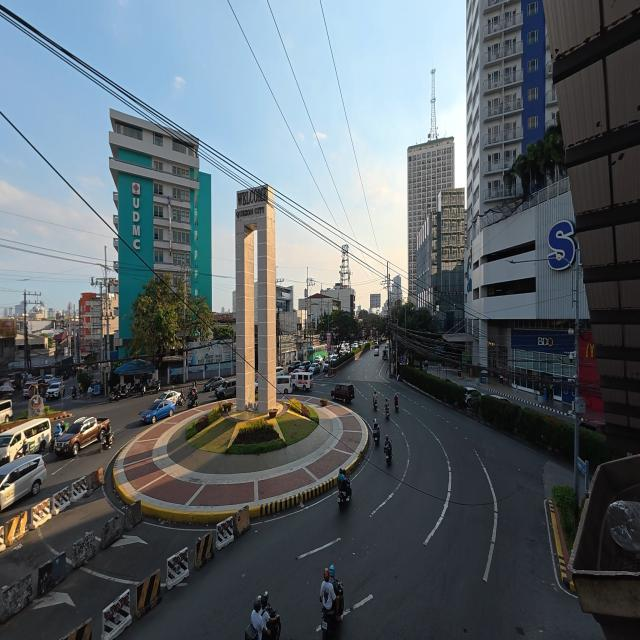car: (0, 455, 46, 510), (140, 400, 175, 423), (215, 378, 236, 400), (331, 384, 354, 402), (45, 381, 64, 400), (580, 420, 605, 434), (155, 390, 180, 403), (203, 376, 224, 391), (465, 387, 482, 405), (23, 381, 42, 397), (490, 394, 511, 403), (288, 361, 300, 372), (290, 368, 303, 377), (299, 361, 310, 371), (309, 363, 319, 374), (44, 375, 54, 383), (313, 357, 323, 364), (276, 366, 283, 375), (330, 354, 339, 361), (323, 361, 329, 371), (351, 342, 358, 350), (340, 348, 347, 355), (374, 348, 379, 356), (255, 381, 258, 392)
motorcycle: (321, 581, 344, 639), (263, 606, 281, 639), (265, 606, 281, 639), (50, 423, 68, 452), (321, 607, 336, 639), (338, 478, 351, 510), (109, 386, 129, 402), (130, 380, 148, 396), (99, 433, 114, 452), (187, 395, 199, 409), (148, 380, 160, 392), (175, 392, 185, 406), (385, 447, 392, 466), (373, 425, 379, 445), (72, 387, 77, 400), (385, 406, 389, 419), (374, 400, 377, 411), (395, 404, 399, 412)
trucks: (55, 417, 109, 455)
vans: (0, 418, 50, 464), (292, 373, 313, 391), (276, 374, 291, 394), (0, 400, 12, 423)
